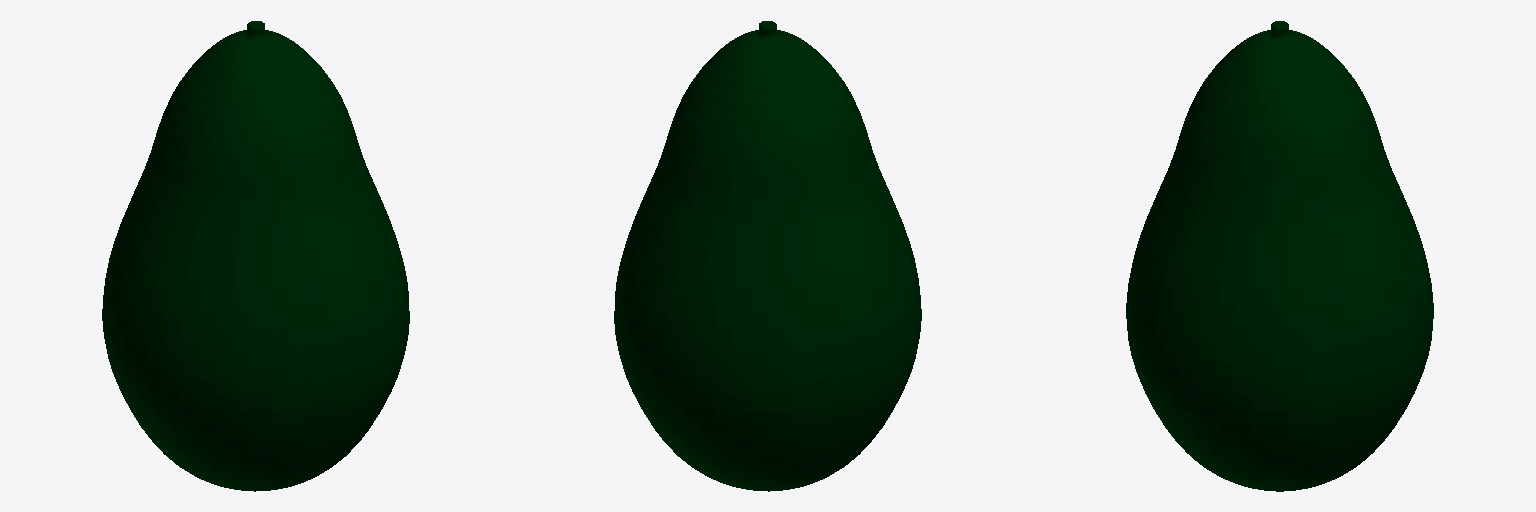
robot.urdf — Avocado:
<?xml version="1.0" encoding="utf-8"?>
<!-- This URDF was automatically created by SolidWorks to URDF Exporter! Originally created by [author] ([email redacted]) 
     Commit Version: 1.6.0-4-g7f85cfe  Build Version: 1.6.7995.38578
     For more information, please see http://wiki.ros.org/sw_urdf_exporter -->
<robot
  name="Avocado">
  <link
    name="Avocado">
    <inertial>
      <origin
        xyz="7.27964790956574E-19 0.0464787778257458 -1.0137111831409E-07"
        rpy="0 0 0" />
      <mass
        value="0.155265803845365" />
      <inertia
        ixx="9.15954429934306E-05"
        ixy="1.5008697298283E-22"
        ixz="-1.28400289663136E-26"
        iyy="5.10362710169675E-05"
        iyz="8.58264752535417E-10"
        izz="9.15954429957635E-05" />
    </inertial>
    <visual>
      <origin
        xyz="0 0 0"
        rpy="0 0 0" />
      <geometry>
        <mesh
          filename="package://Avocado/meshes/Avocado.STL" />
      </geometry>
      <material
        name="">
        <color
          rgba="0 0.180392156862745 0.0392156862745098 1" />
      </material>
    </visual>
    <collision>
      <origin
        xyz="0 0 0"
        rpy="0 0 0" />
      <geometry>
        <mesh
          filename="package://Avocado/meshes/Avocado.STL" />
      </geometry>
    </collision>
  </link>
</robot>

--- What the picture shows (computed from the rendered views, not written in the file) ---
The picture shows the robot from 3 angles, left to right: view 1: azimuth 30°, elevation 25°; view 2: azimuth 150°, elevation 25°; view 3: azimuth 270°, elevation 25°; orthographic projection.
Robot: Avocado — 1 links, 0 joints (none); root link Avocado; default pose: all joints at 0.
Visible links, largest first — view 1: Avocado; view 2: Avocado; view 3: Avocado.
Boxes of the visible links, x1,y1,x2,y2 form: Avocado: [102, 21, 409, 491]; Avocado: [614, 21, 921, 491]; Avocado: [1126, 21, 1433, 491].
Size in the robot's own frame: 0.0593 by 0.0594 by 0.0969 metres.
1 mesh visuals loaded from 1 distinct referenced files (1 binary STL).
